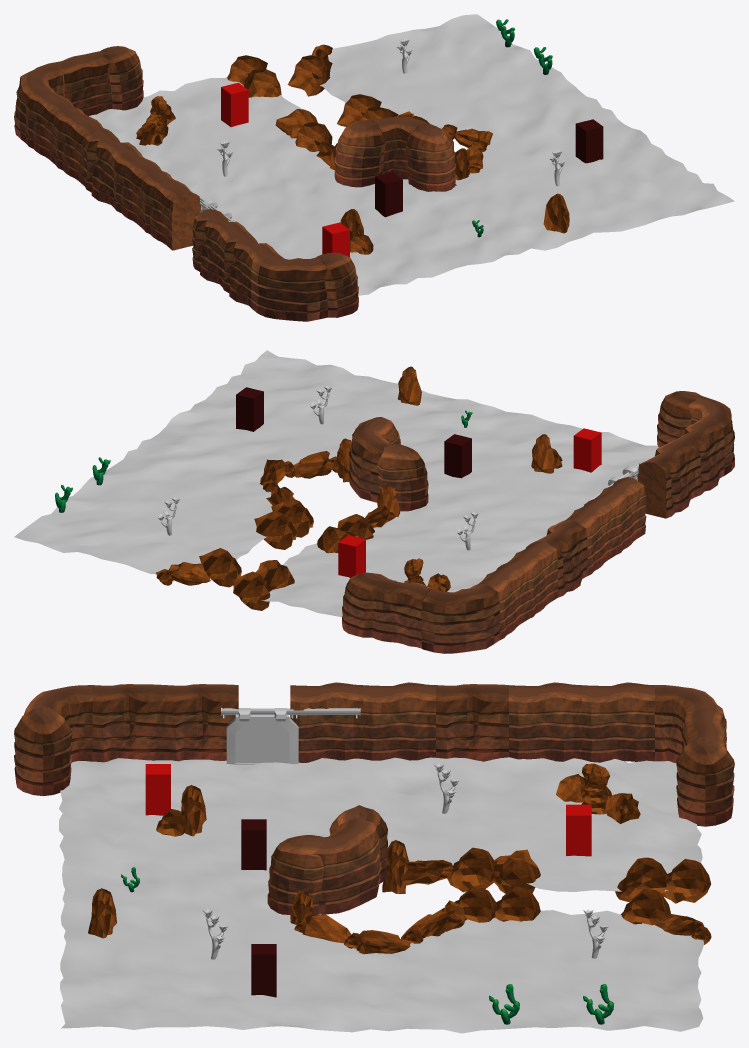
Rendered from Lvl1R1_Alpha_Collapsed.fbx.
3 renders of one model, top to bottom at view 1: azimuth 30°, elevation 25°; view 2: azimuth 150°, elevation 25°; view 3: azimuth 270°, elevation 25°, orthographic. The views are drawn at different scales.
Parts seen in each view (by area): view 1: Plane074, level1_wall03, GeoSphere027, Blurrg1, Blurrg, Stormtrooper2, Cylinder003, Stormtrooper3, Lil_Cactus001; view 2: Plane074, level1_wall03, GeoSphere027, Stormtrooper3, Blurrg1, Blurrg, Stormtrooper2, Cylinder003, Lil_Cactus001; view 3: Plane074, level1_wall03, GeoSphere027, level1_door, Cylinder003, Stormtrooper2, Blurrg1, Blurrg, Stormtrooper3, Lil_Cactus001, level1_doorrail.
Part boxes in pixels (x1,y1,x2,y2): Plane074: [89, 14, 734, 295]; level1_wall03: [14, 46, 455, 321]; GeoSphere027: [136, 44, 569, 254]; Blurrg1: [575, 119, 603, 163]; Blurrg: [375, 172, 402, 217]; Stormtrooper2: [221, 82, 248, 127]; Cylinder003: [217, 37, 564, 186]; Stormtrooper3: [322, 222, 349, 257]; Lil_Cactus001: [472, 19, 552, 237]; Plane074: [14, 350, 658, 617]; level1_wall03: [342, 391, 734, 653]; GeoSphere027: [156, 366, 562, 610]; Stormtrooper3: [573, 428, 601, 472]; Blurrg1: [236, 387, 263, 431]; Blurrg: [444, 434, 471, 478]; Stormtrooper2: [338, 535, 365, 577]; Cylinder003: [157, 385, 478, 550]; Lil_Cactus001: [55, 410, 472, 512]; Plane074: [59, 757, 703, 1033]; level1_wall03: [14, 682, 734, 914]; GeoSphere027: [88, 763, 711, 954]; level1_door: [226, 708, 298, 764]; Cylinder003: [202, 763, 608, 959]; Stormtrooper2: [566, 804, 591, 856]; Blurrg1: [251, 944, 276, 997]; Blurrg: [241, 819, 266, 870]; Stormtrooper3: [145, 764, 170, 815]; Lil_Cactus001: [121, 867, 613, 1024]; level1_doorrail: [221, 707, 360, 718].
Bounding box in the file's own units: 1484 × 209 × 1557.
